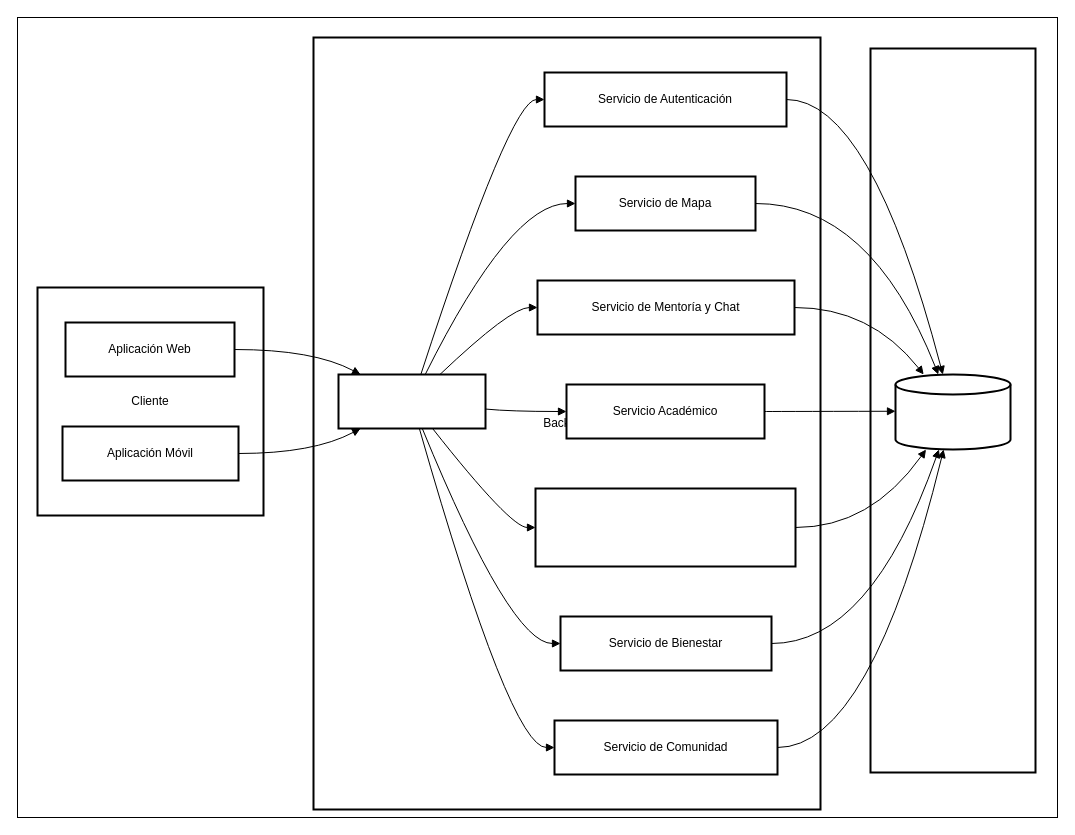
Some shapes in this 1075 by 835 pixel diagram are drawn without their labels. The centre of each missing label's shape, as x and y in pixels:
"API Backend" belongs at (x=411, y=401).
"Base de Datos" belongs at (x=952, y=411).
"Servicio de Eventos y Notificaciones" belongs at (x=665, y=527).
